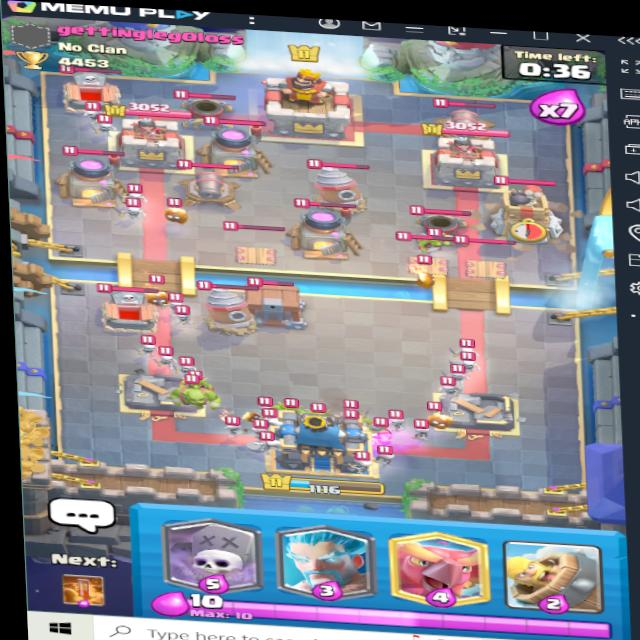bomb-tower: (487, 170, 567, 250)
brawler: (171, 374, 231, 416)
cannon: (428, 95, 499, 150), (173, 156, 246, 209)
fire-spirit: (155, 196, 192, 230), (139, 285, 179, 310), (409, 261, 447, 287), (417, 409, 454, 433)
furnace: (282, 195, 372, 260), (52, 145, 127, 203)
goblin: (437, 392, 474, 417), (182, 373, 220, 397), (410, 413, 439, 437)
goblin-cage: (233, 269, 310, 330)
goblin-drill: (292, 153, 378, 213), (186, 278, 261, 337)
mortar: (404, 200, 476, 249), (172, 85, 240, 132)
skeleton: (130, 329, 170, 350), (116, 198, 148, 223), (434, 374, 466, 396), (448, 337, 481, 358), (172, 308, 202, 330), (377, 444, 407, 465), (445, 363, 478, 382), (365, 451, 399, 469), (244, 417, 271, 439), (254, 435, 277, 455)
tesla-closed: (222, 219, 292, 268), (399, 234, 466, 283), (455, 240, 511, 289)
tombstone: (89, 281, 168, 332), (59, 64, 135, 117)
